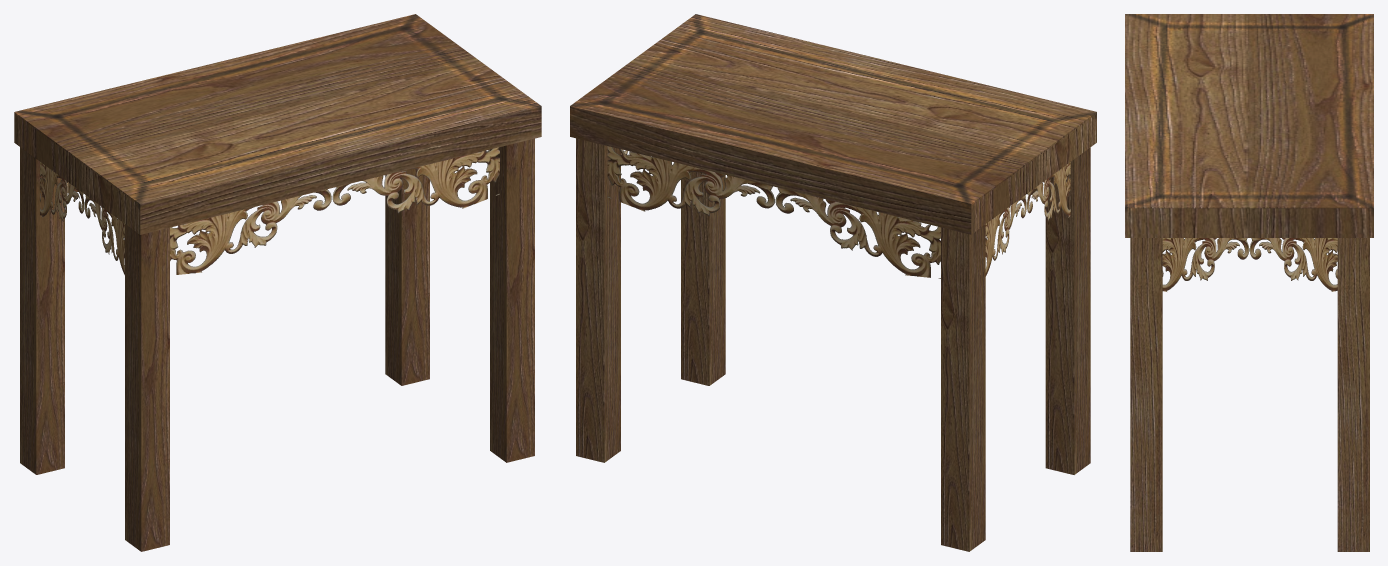
Rendered from Table_1.FBX.
The picture shows the model from 3 angles, left to right: view 1: azimuth 30°, elevation 25°; view 2: azimuth 150°, elevation 25°; view 3: azimuth 270°, elevation 25°; orthographic projection.
Visible parts, largest first — view 1: Table_1; view 2: Table_1; view 3: Table_1.
Boxes of the visible parts, x1,y1,x2,y2 form: Table_1: (14, 14, 541, 551); Table_1: (570, 14, 1096, 551); Table_1: (1125, 14, 1373, 551).
Bounding box in the file's own units: 44.4 × 37.05 × 24.11.
